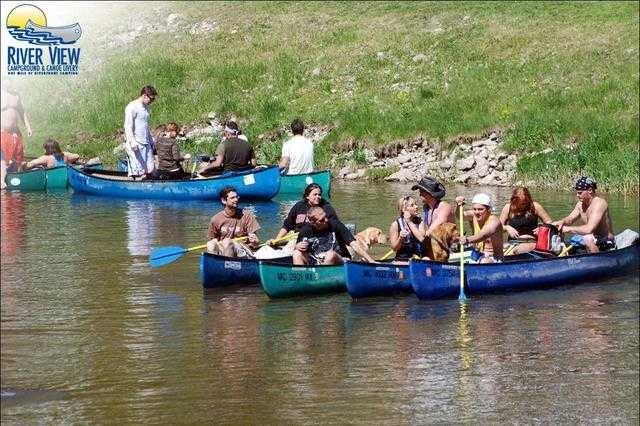kayak: (408, 238, 639, 301), (66, 160, 280, 200), (201, 251, 349, 292), (257, 259, 347, 299), (343, 260, 413, 299), (5, 165, 69, 192), (278, 169, 333, 198)
